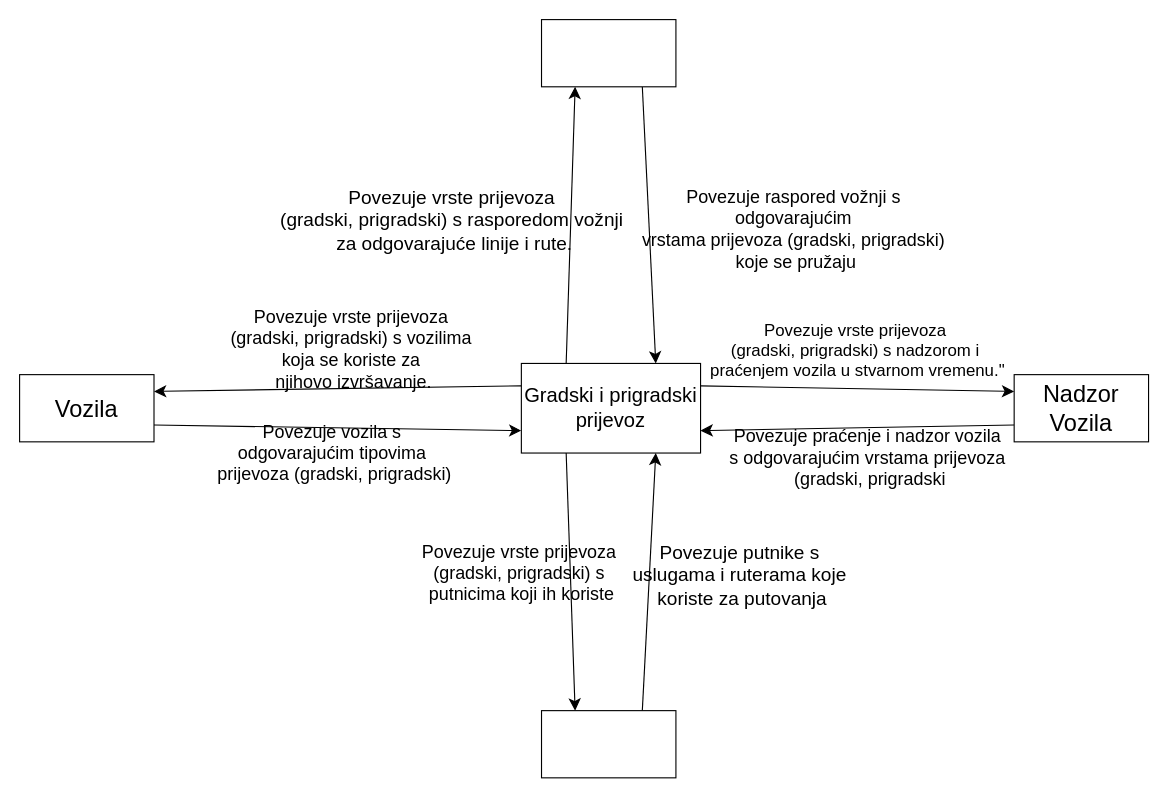
The diagram is 1168 pixels wide and 797 high, and some of its shapes have lost their labels. The box of each missing label's shape, as (x1, y1, x2, y2) in pixels:
Putnici: (540, 710, 676, 778)
Vozni red: (540, 18, 676, 87)
